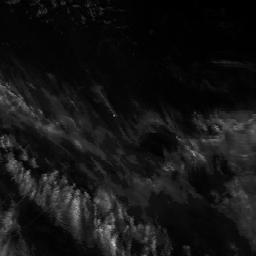Target: (111, 113, 116, 118)
